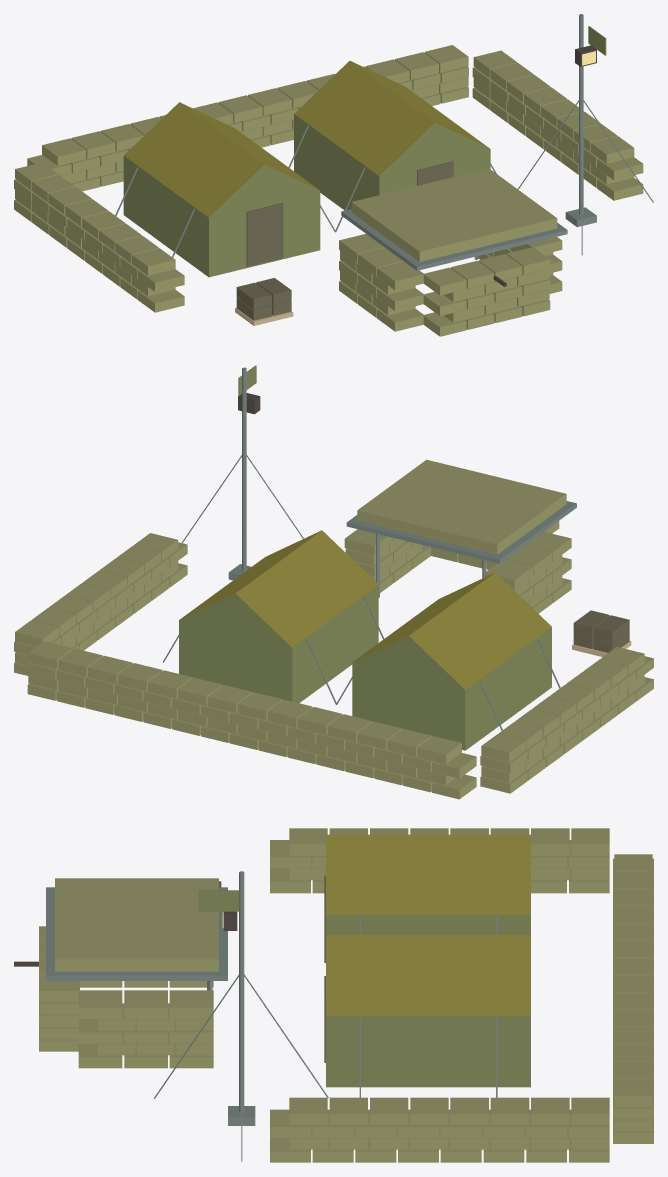
Rendered from SM_PuestoFrente_v4_LOD0.fbx.
3 views of the same model, one above another, from view 1: azimuth 30°, elevation 25°; view 2: azimuth 150°, elevation 25°; view 3: azimuth 270°, elevation 25° (orthographic). The views are drawn at different scales.
Visible parts, largest first — view 1: SM_bloques.puesto_frente_v4_LOD0; view 2: SM_bloques.puesto_frente_v4_LOD0; view 3: SM_bloques.puesto_frente_v4_LOD0.
Part boxes in pixels (box(x1,y1,x2,y2)): SM_bloques.puesto_frente_v4_LOD0: box(14, 14, 653, 336); SM_bloques.puesto_frente_v4_LOD0: box(14, 365, 653, 799); SM_bloques.puesto_frente_v4_LOD0: box(14, 828, 653, 1162).
Bounding box in the file's own units: 14.9 × 6 × 14.05.
